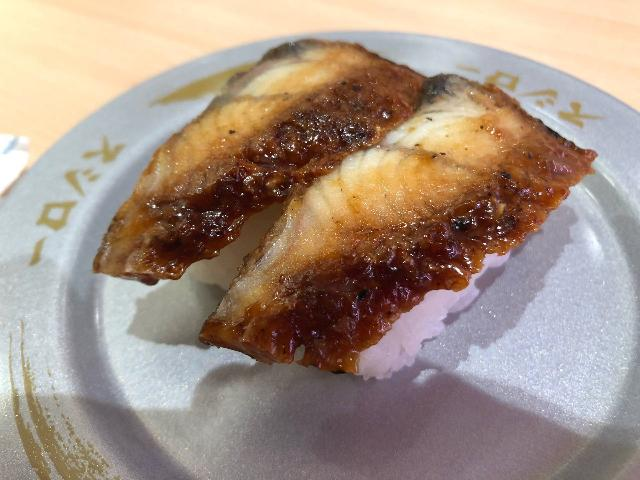janwhite: (24, 50, 640, 480)
